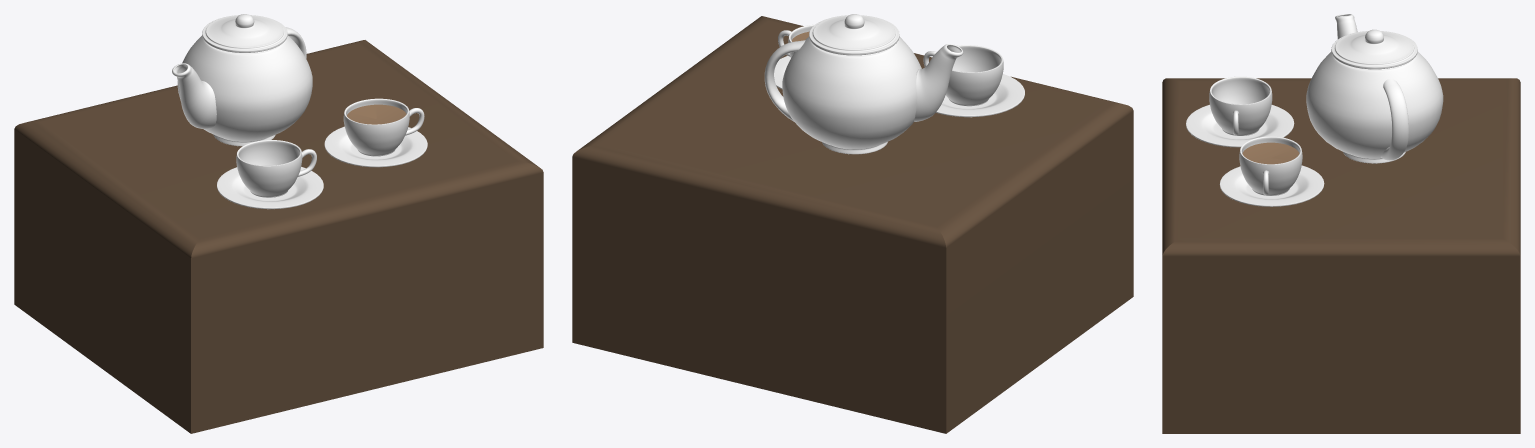
File: Miniature.fbx
The picture shows the model from 3 angles, left to right: view 1: azimuth 30°, elevation 25°; view 2: azimuth 150°, elevation 25°; view 3: azimuth 270°, elevation 25°; orthographic projection. The views are drawn at different scales.
Parts seen in each view (by area): view 1: pCube2, pCylinder5, pCylinder8, pCylinder14, pCylinder5.001, pCylinder15, pCylinder9; view 2: pCube2, pCylinder5, pCylinder5.001, pCylinder14, pCylinder15; view 3: pCube2, pCylinder5, pCylinder8, pCylinder14, pCylinder5.001, pCylinder9, pCylinder15.
Boxes of the visible parts, x1,y1,x2,y2 form: pCube2: (14,40,543,433); pCylinder5: (172,27,312,146); pCylinder8: (343,98,424,156); pCylinder14: (236,140,316,197); pCylinder5.001: (202,14,287,52); pCylinder15: (217,167,323,209); pCylinder9: (324,126,427,167); pCube2: (572,16,1133,433); pCylinder5: (764,37,963,154); pCylinder5.001: (809,14,899,55); pCylinder14: (923,45,1003,106); pCylinder15: (936,74,1024,117); pCube2: (1162,78,1520,433); pCylinder5: (1306,14,1443,163); pCylinder8: (1239,136,1302,195); pCylinder14: (1209,76,1272,135); pCylinder5.001: (1331,29,1417,69); pCylinder9: (1219,165,1324,206); pCylinder15: (1186,104,1294,147).
Bounding box in the file's own units: 43.23 × 35.54 × 37.55.
